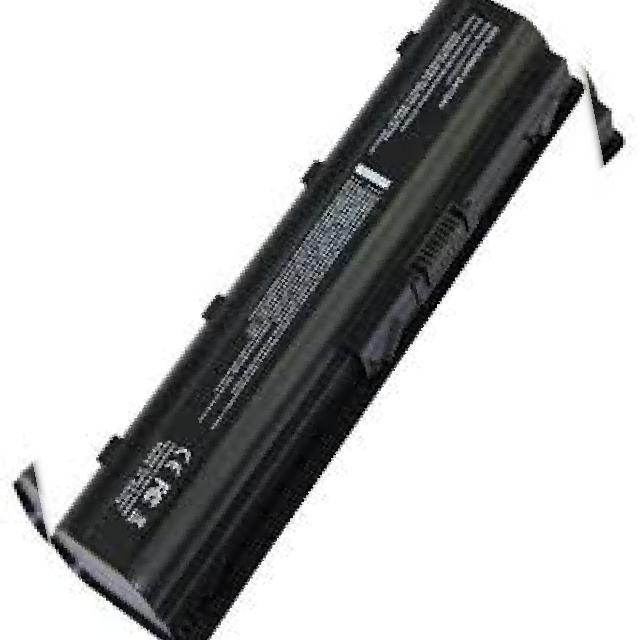Battery: (3, 2, 639, 640)
